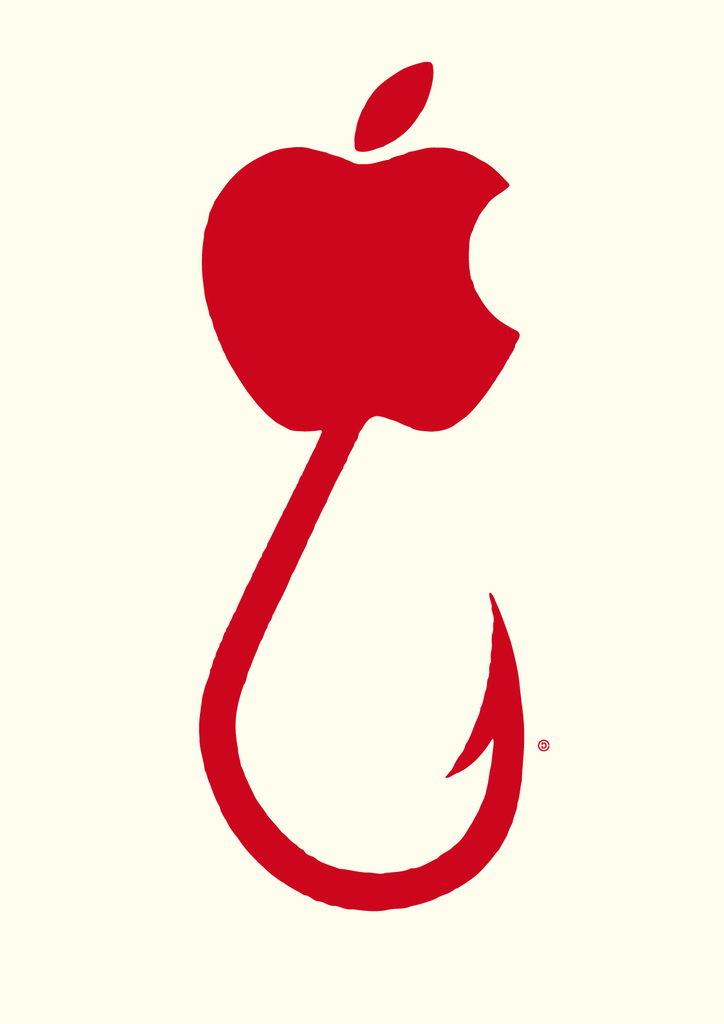Apple: (206, 88, 505, 481)
